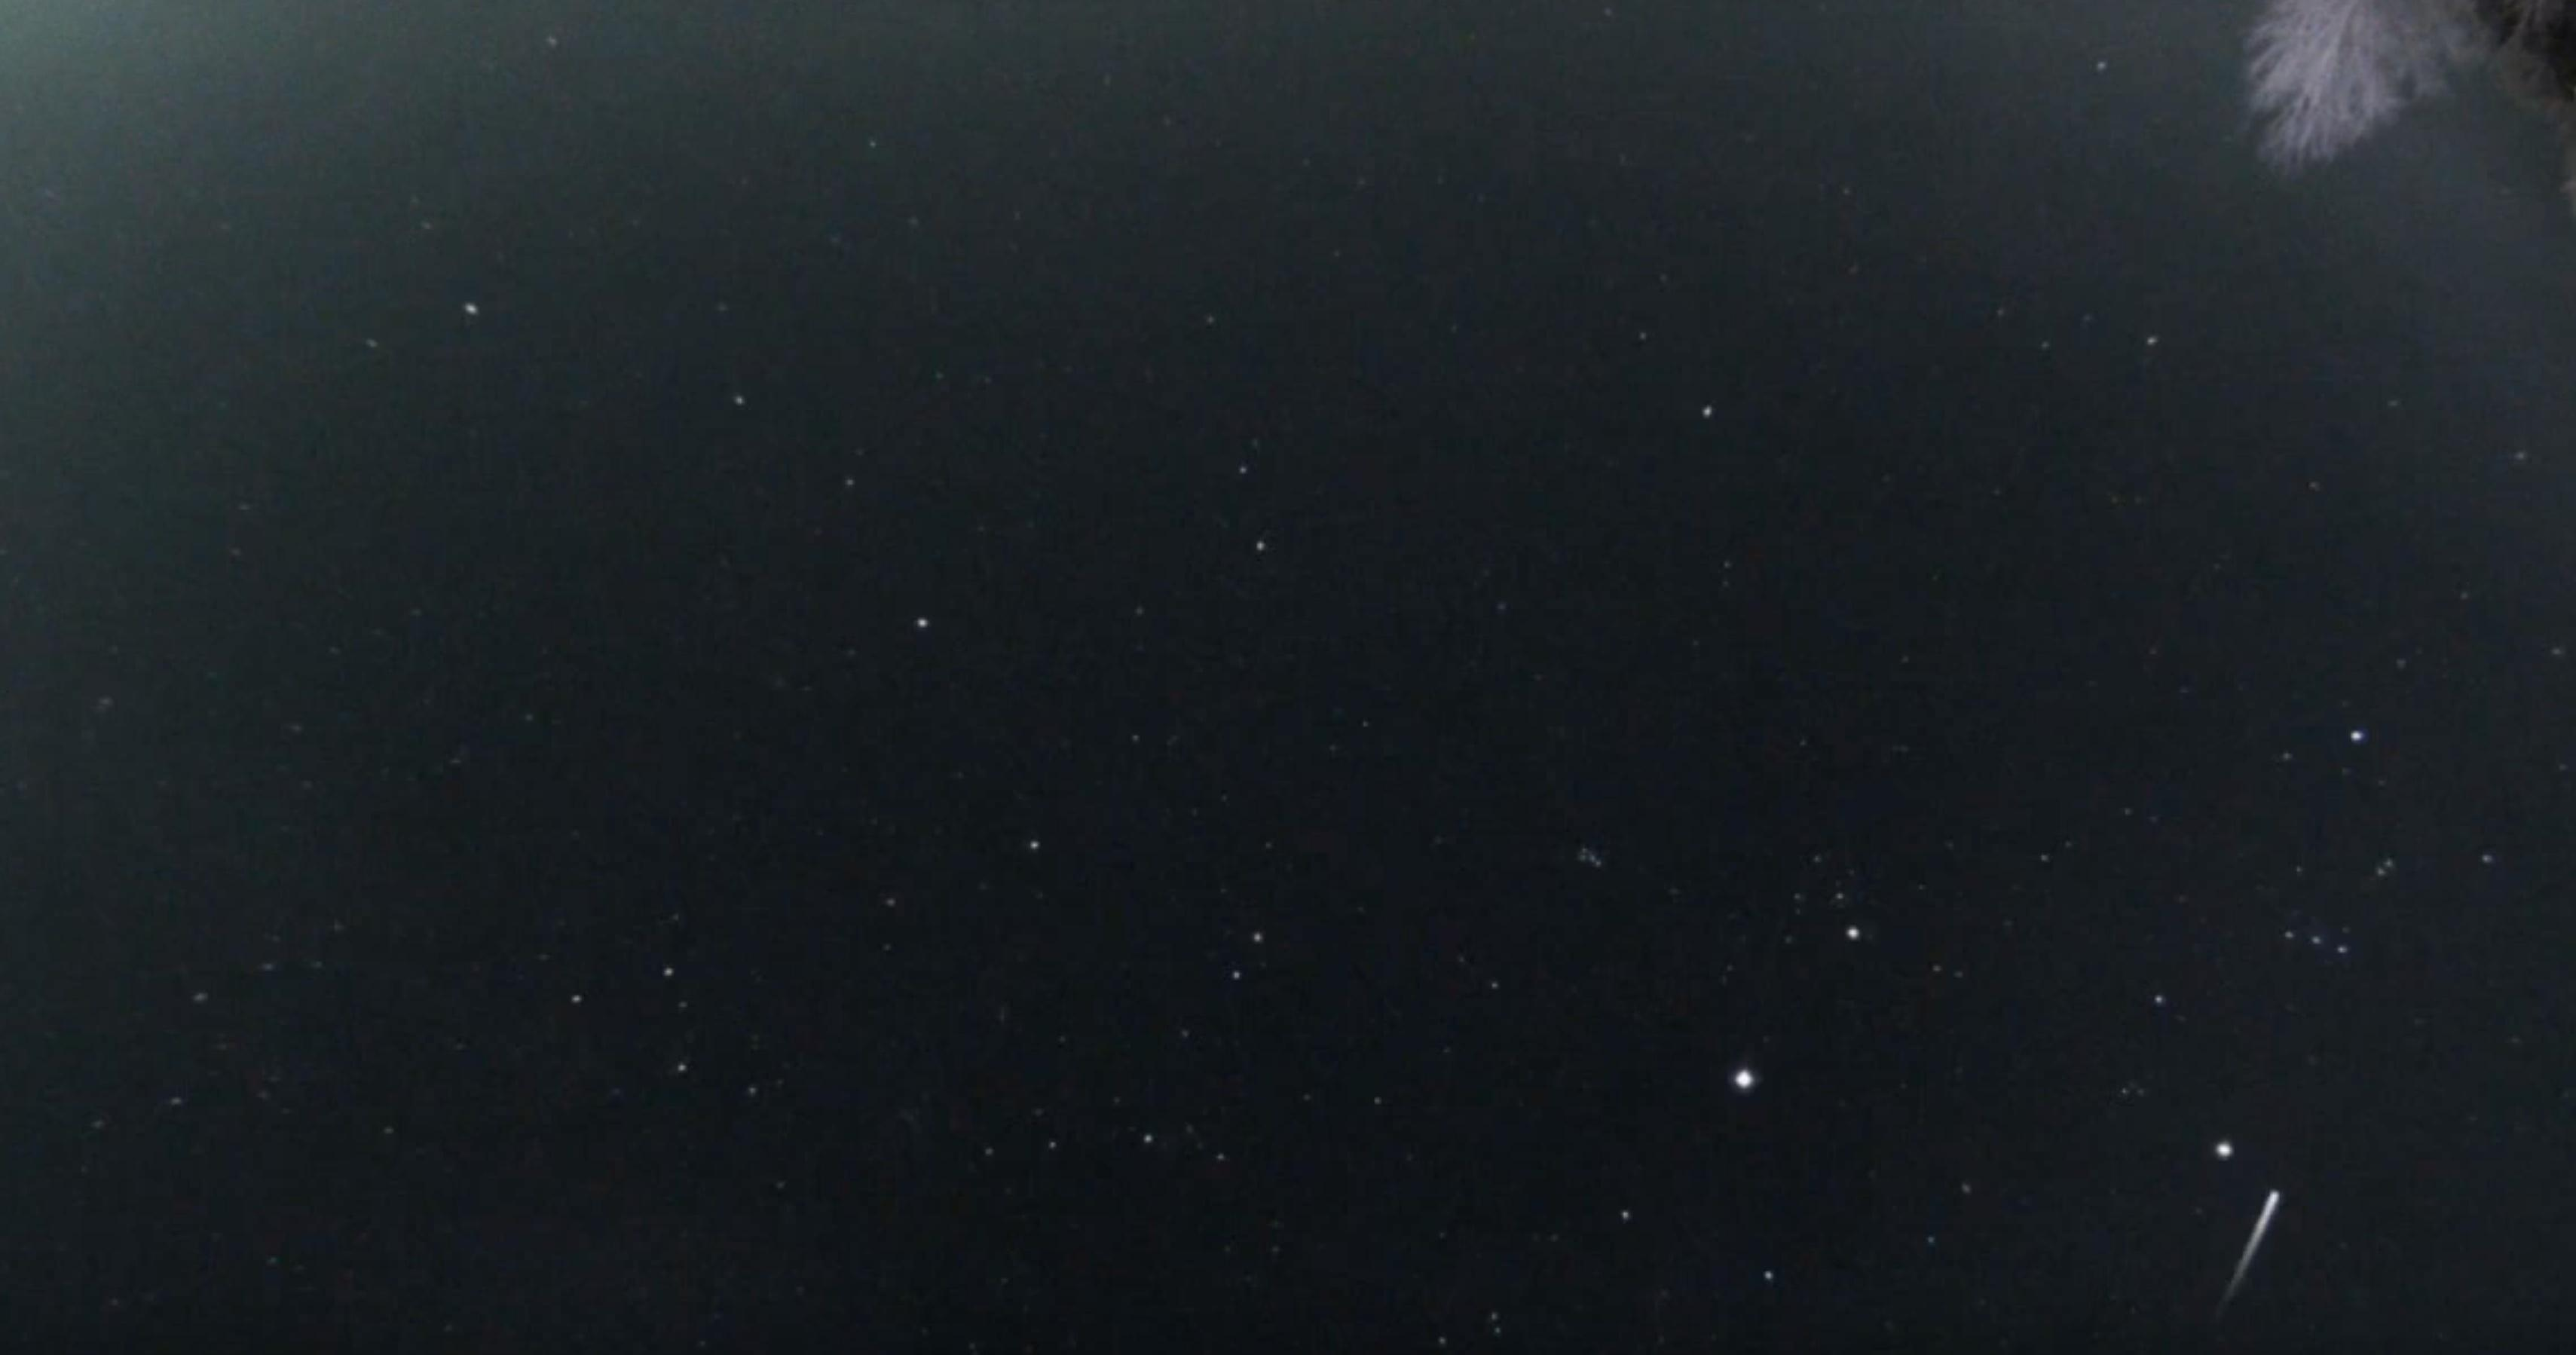meteorite: (2181, 1139, 2327, 1355)
